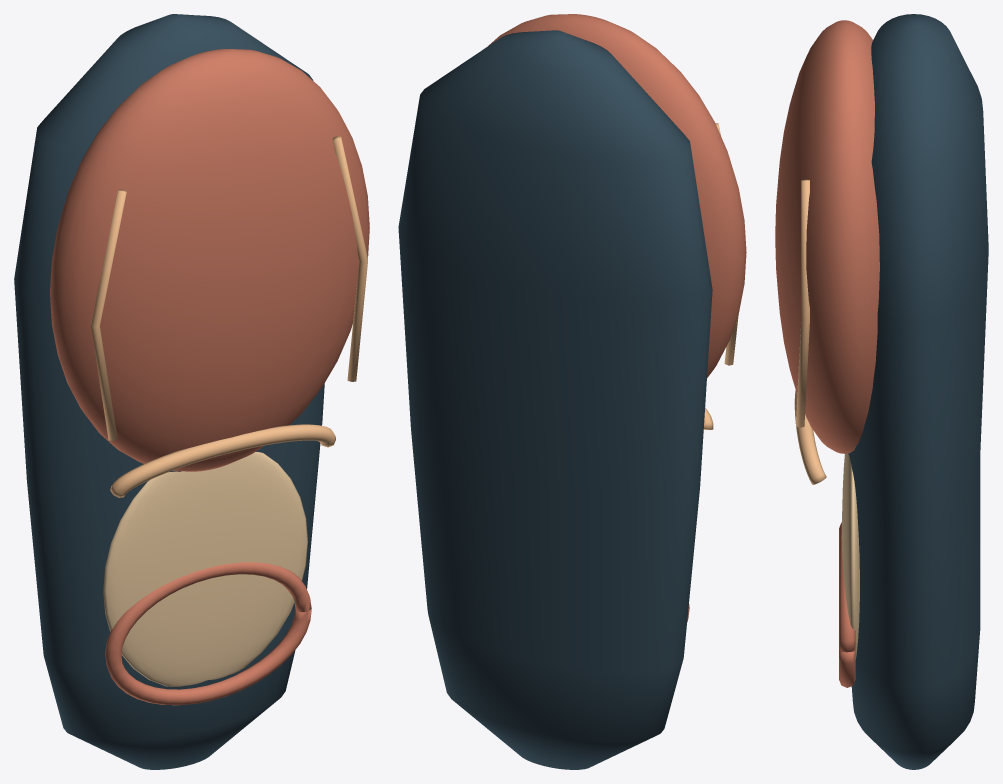
Rendered from slipper.glb.
3 renders of one model, left to right at view 1: azimuth 30°, elevation 25°; view 2: azimuth 150°, elevation 25°; view 3: azimuth 270°, elevation 25°, orthographic. The views are drawn at different scales.
Parts seen in each view (by area): view 1: slipper; view 2: slipper; view 3: slipper.
Boxes of the visible parts, box(x1,y1,x2,y2) form: slipper: box(14, 14, 369, 769); slipper: box(398, 14, 746, 769); slipper: box(775, 14, 988, 769).
Size of the model in its own units: 0.128 by 0.29 by 0.077.
